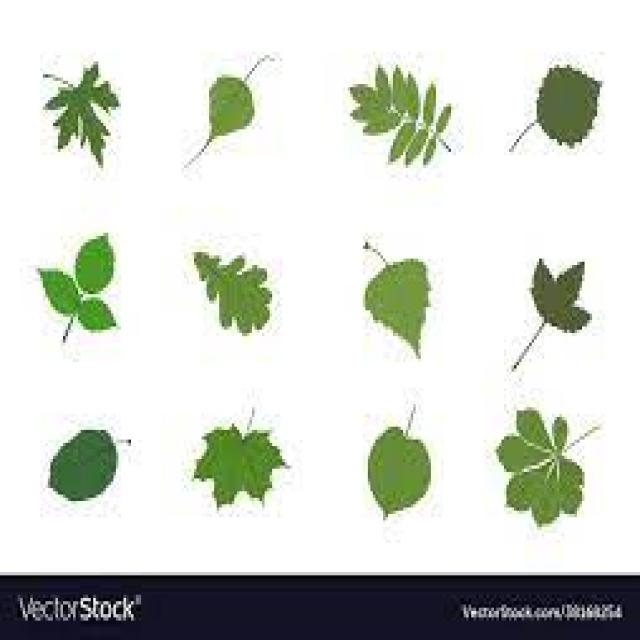leaves: (44, 65, 119, 166)
